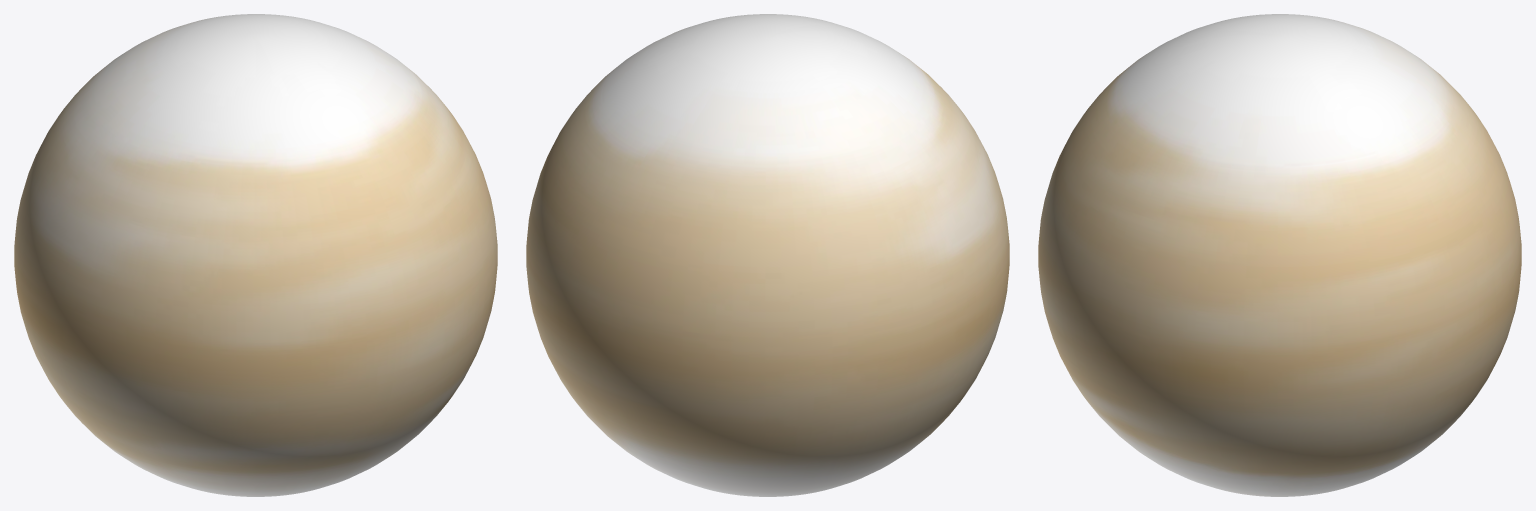
Rendered from venus.glb.
3 views of the same model, side by side, from view 1: azimuth 30°, elevation 25°; view 2: azimuth 150°, elevation 25°; view 3: azimuth 270°, elevation 25° (orthographic).
Parts seen in each view (by area): view 1: cylindrically_mapped_sphere:Mesh; view 2: cylindrically_mapped_sphere:Mesh; view 3: cylindrically_mapped_sphere:Mesh.
Boxes of the visible parts, x1,y1,x2,y2 form: cylindrically_mapped_sphere:Mesh: [14, 14, 497, 496]; cylindrically_mapped_sphere:Mesh: [526, 14, 1009, 496]; cylindrically_mapped_sphere:Mesh: [1038, 14, 1521, 496].
Bounding box in the file's own units: 1000 × 1000 × 1000.
Materials: 1 (1 with a texture image).
